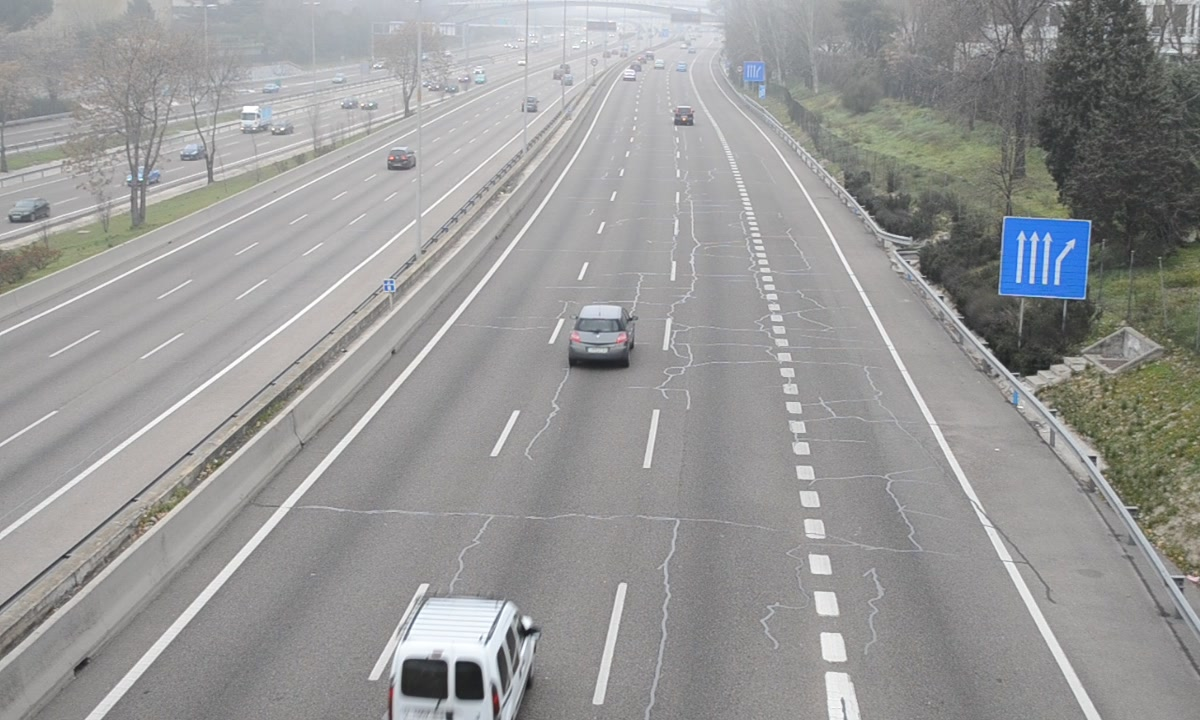car: (570, 304, 635, 362), (675, 105, 694, 126)
van: (385, 595, 538, 720)
